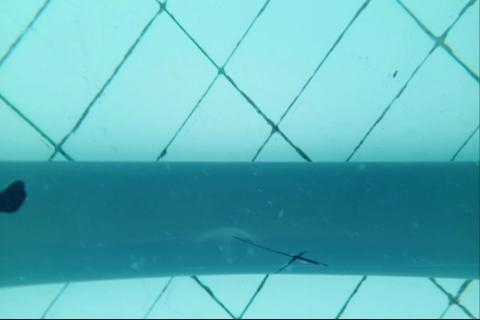kebocoran: (0, 179, 27, 216)
keretakan: (232, 234, 327, 274)
